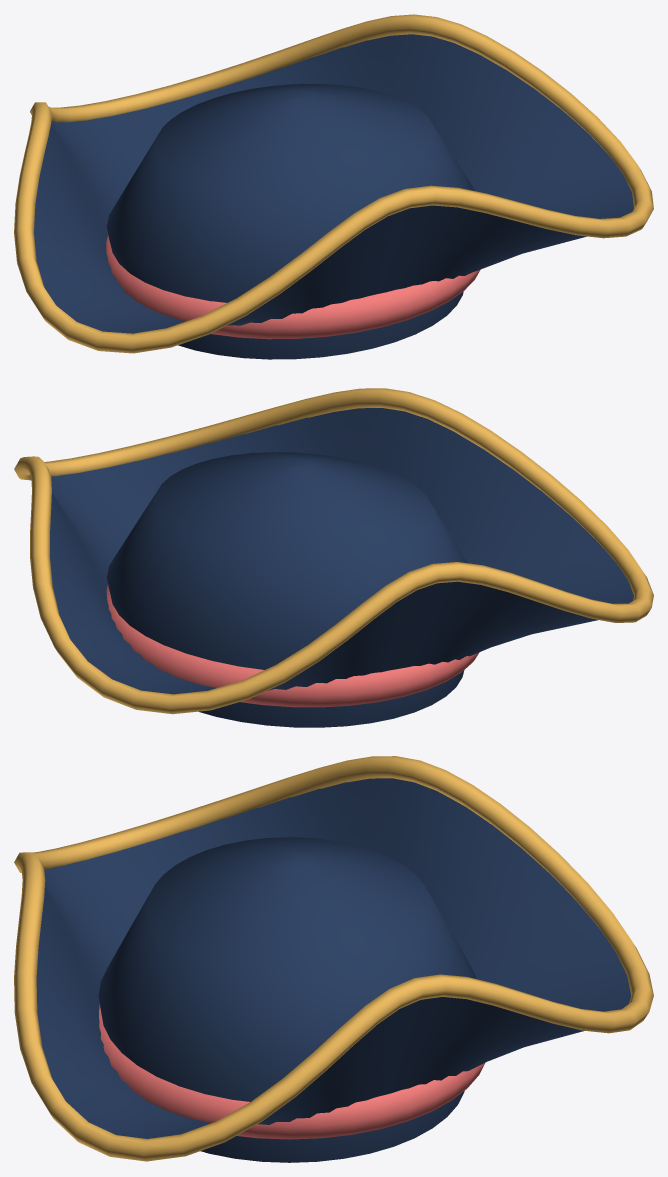
Rendered from pirate-hat.glb.
3 views of the same model, one above another, from view 1: azimuth 30°, elevation 25°; view 2: azimuth 150°, elevation 25°; view 3: azimuth 270°, elevation 25° (orthographic). The views are drawn at different scales.
Parts seen in each view (by area): view 1: tricorn-brim, navy-crown, gold-edge, coral-band; view 2: tricorn-brim, navy-crown, gold-edge, coral-band; view 3: tricorn-brim, navy-crown, gold-edge, coral-band.
Part boxes in pixels (x1,y1,x2,y2): tricorn-brim: (34, 34, 633, 333); navy-crown: (106, 84, 475, 359); gold-edge: (14, 14, 653, 353); coral-band: (106, 235, 480, 339); tricorn-brim: (50, 408, 633, 694); navy-crown: (106, 452, 467, 727); gold-edge: (14, 388, 653, 714); coral-band: (106, 584, 479, 707); tricorn-brim: (36, 778, 631, 1138); navy-crown: (98, 837, 476, 1162); gold-edge: (14, 756, 653, 1161); coral-band: (99, 1004, 484, 1139).
Bounding box in the file's own units: 1 × 0.3092 × 0.8175.
